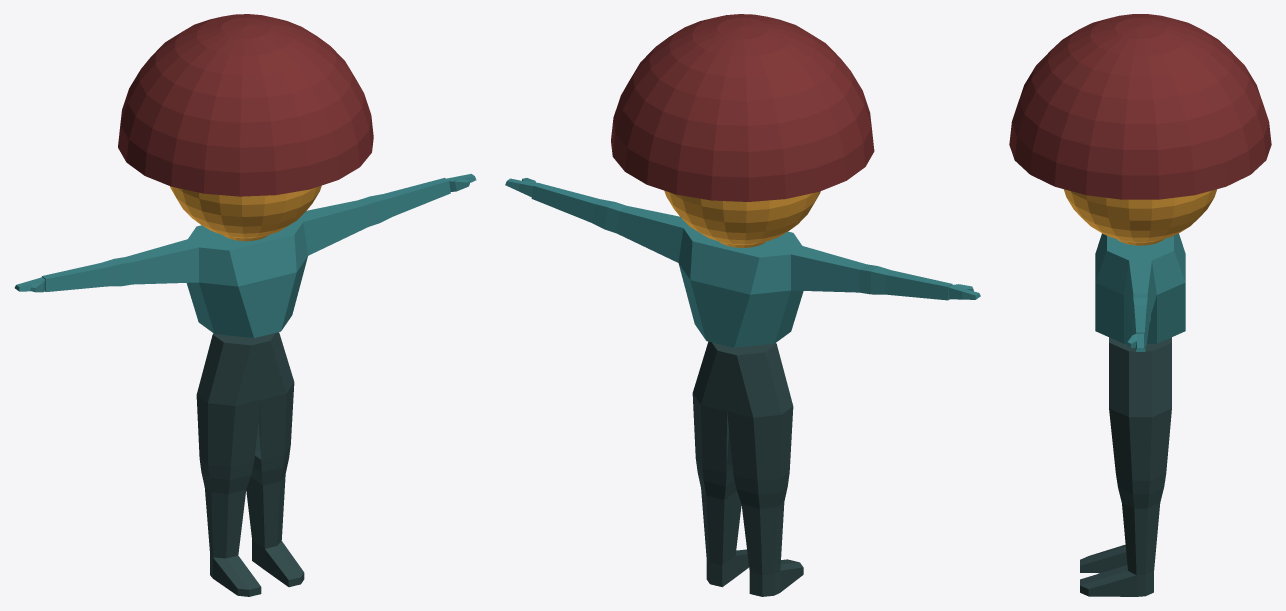
The model's file is TinyCreature.fbx.
3 renders of one model, left to right at view 1: azimuth 30°, elevation 25°; view 2: azimuth 150°, elevation 25°; view 3: azimuth 270°, elevation 25°, orthographic. The views are drawn at different scales.
Visible parts, largest first — view 1: Sphere.001, Cube.001, Cube, Sphere; view 2: Sphere.001, Cube, Cube.001, Sphere; view 3: Sphere.001, Cube.001, Cube, Sphere.
Part boxes in pixels (x1,y1,x2,y2): Sphere.001: (118,14,373,196); Cube.001: (196,332,304,596); Cube: (14,173,476,338); Sphere: (170,185,321,241); Sphere.001: (611,14,874,201); Cube: (505,178,980,347); Cube.001: (692,341,803,596); Sphere: (664,190,820,247); Sphere.001: (1009,14,1271,199); Cube.001: (1080,337,1171,596); Cube: (1095,233,1185,351); Sphere: (1064,189,1216,245).
Size of the model in its own units: 85.81 by 41.79 by 97.41.
